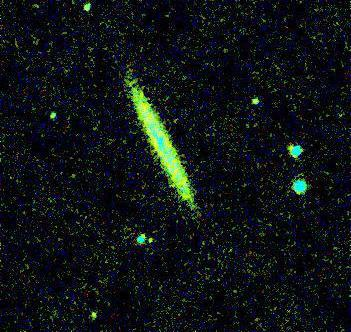star: (241, 87, 271, 117)
